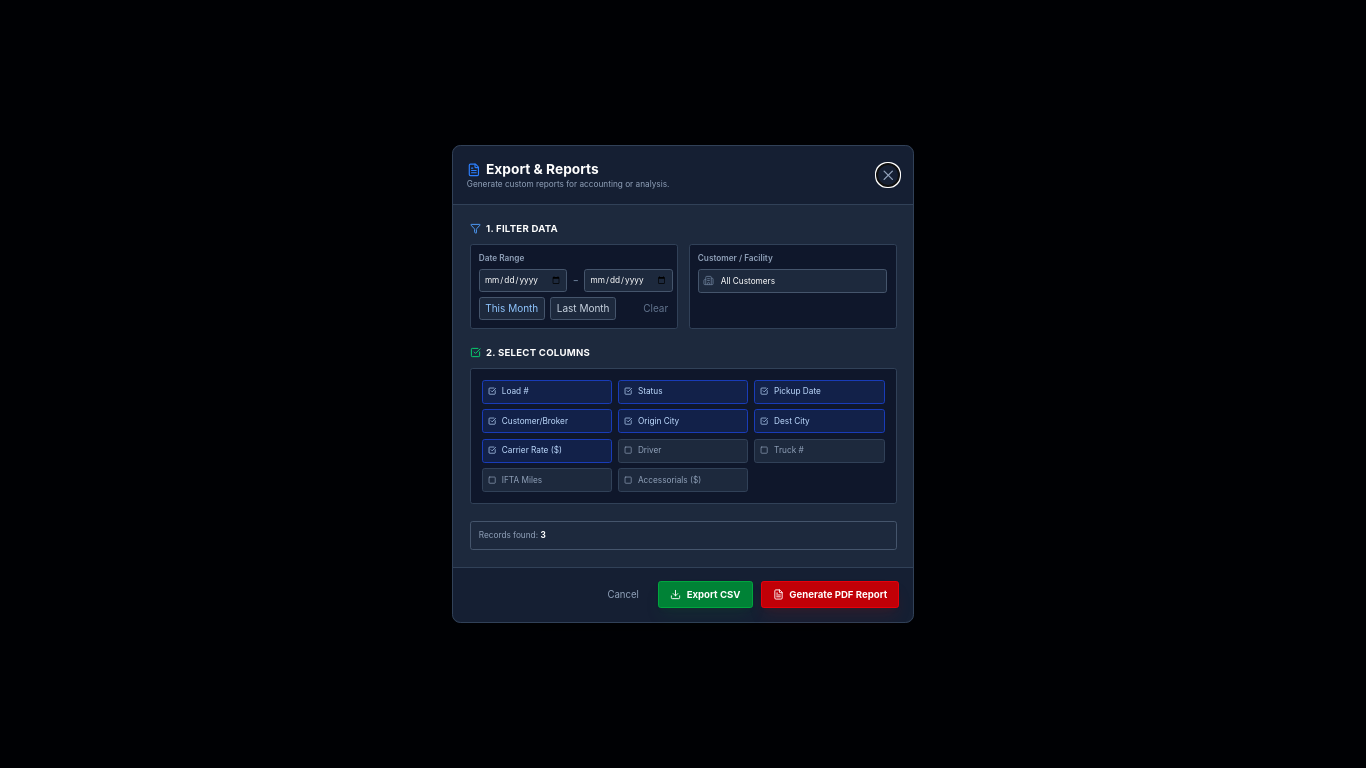
Test: ExportModal › filters by customer when a specific customer is selected
Select "Gamma Yard" in the dropdown showing "All Customers" at (793, 281), box [698,269,887,293]
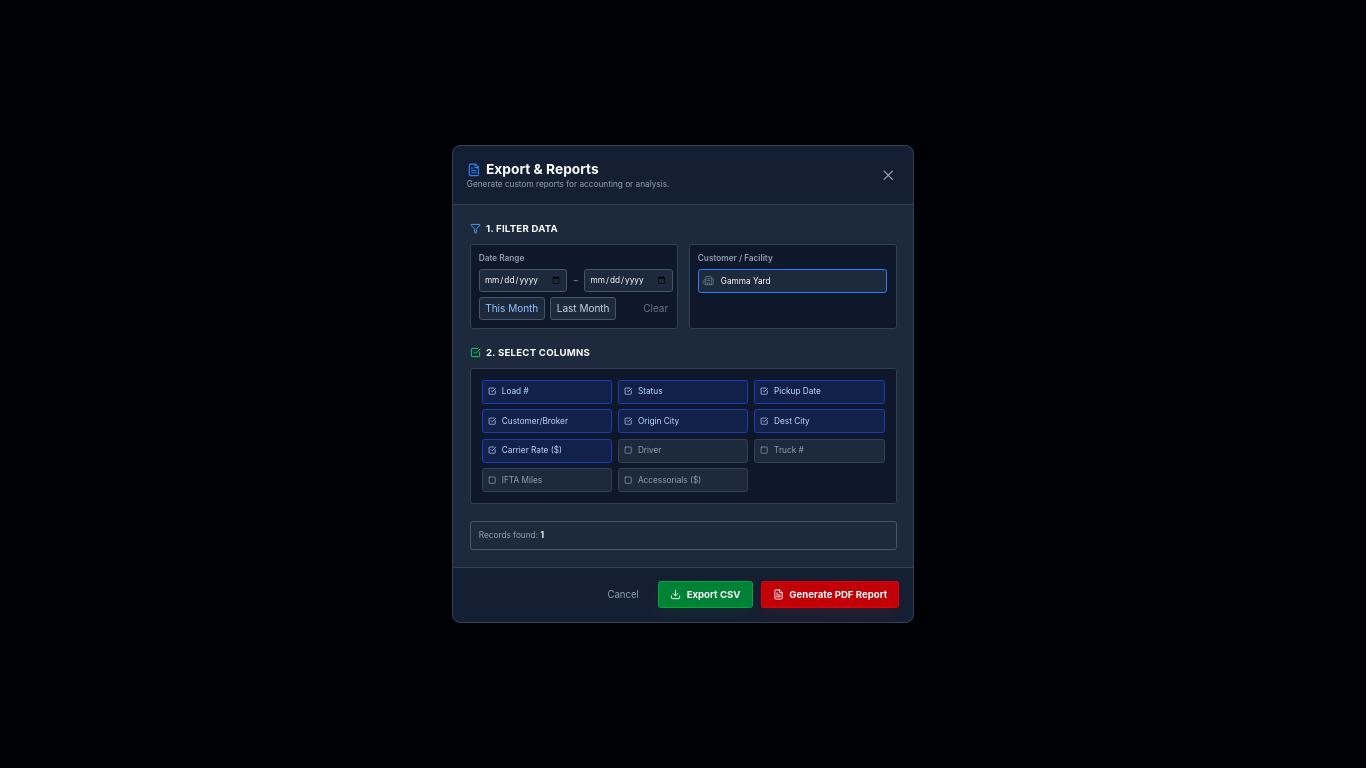
Check: the text "1" is shown, box [540,530,544,540]
